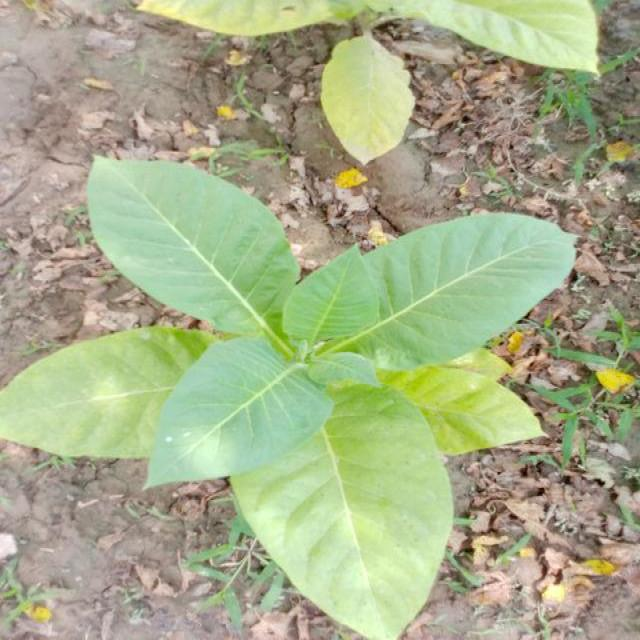crop: (12, 165, 568, 622), (146, 0, 606, 152)
